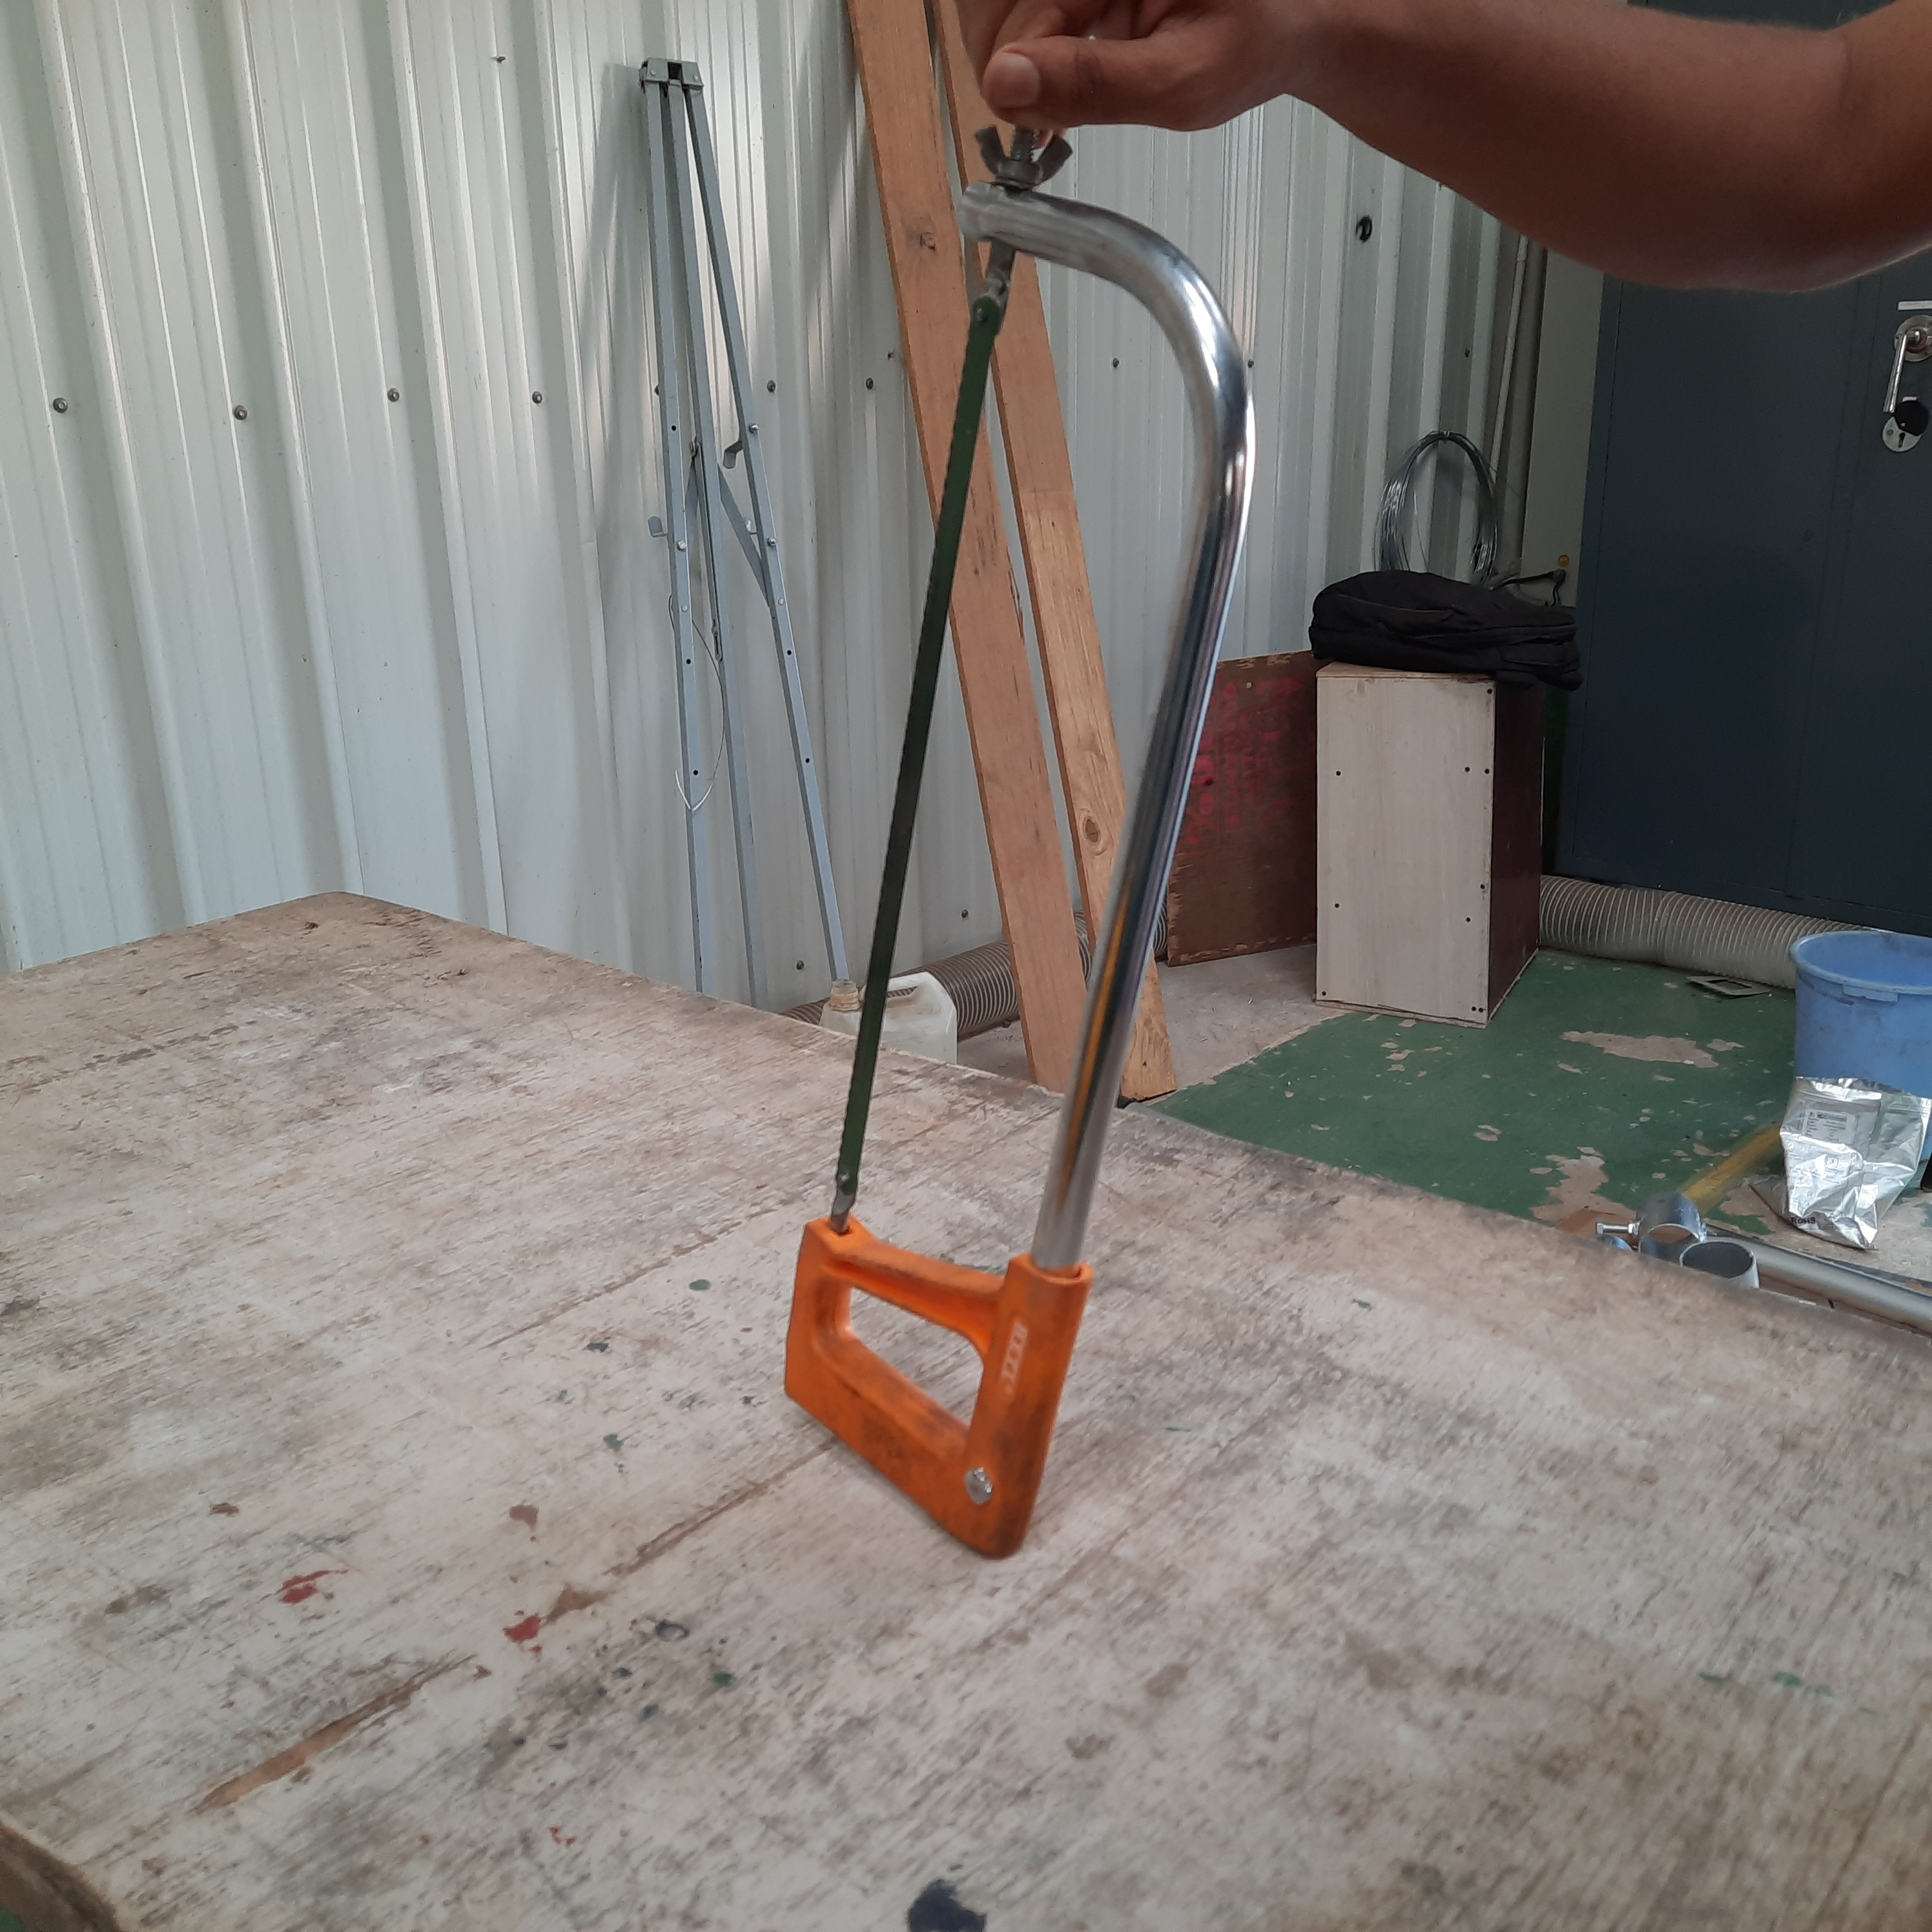Hexaframe: (763, 117, 1304, 1571)
